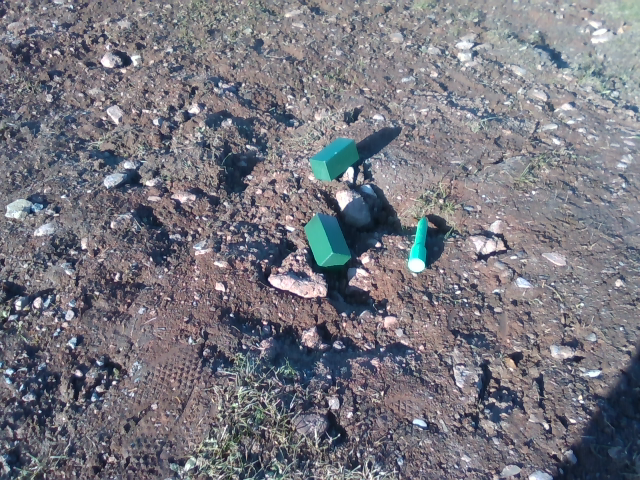Probe: (401, 213, 434, 273)
